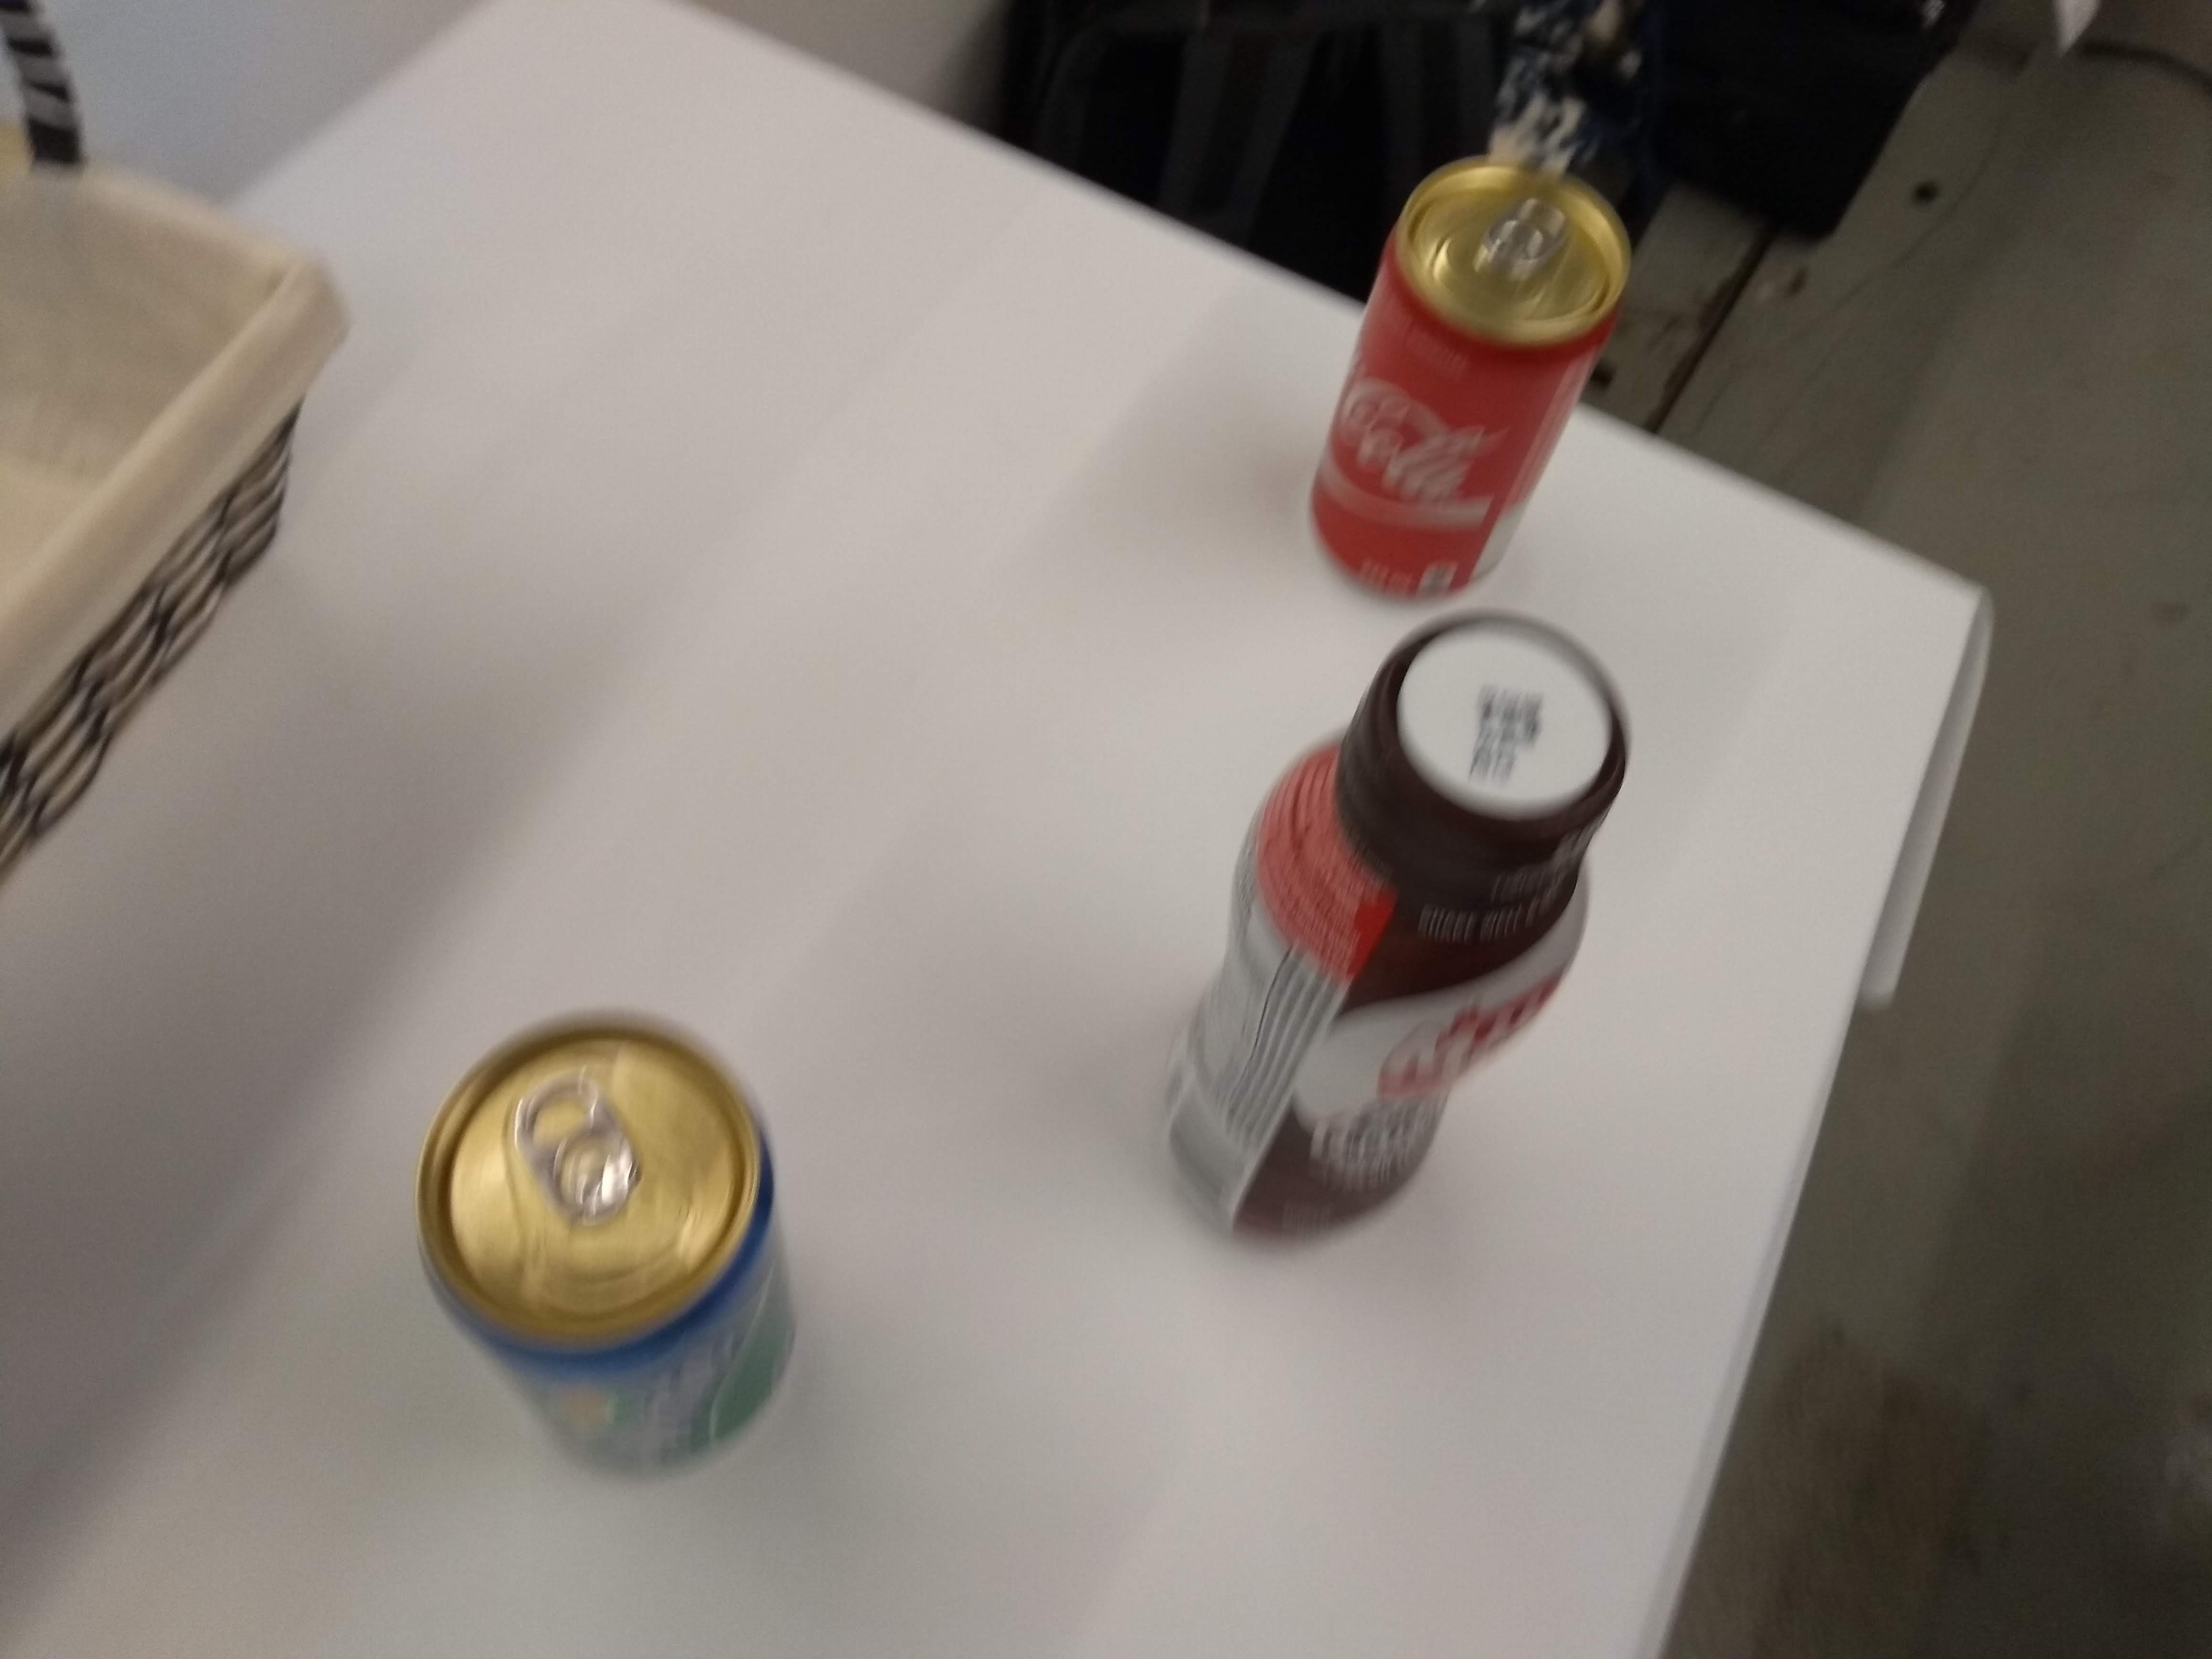chocolate_drink: (1148, 598, 1642, 1260)
coke: (1292, 152, 1637, 620)
sprite: (399, 995, 824, 1492)
